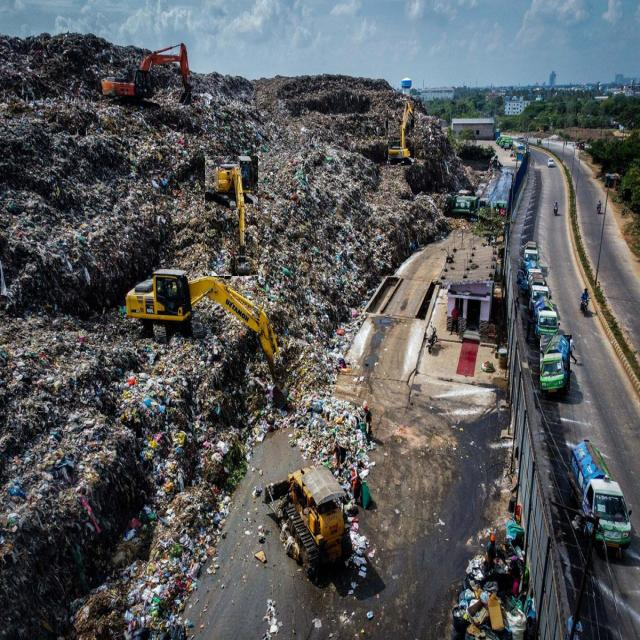truck: (126, 270, 289, 409), (265, 466, 354, 581), (566, 439, 632, 556), (205, 157, 258, 276), (101, 43, 191, 104), (540, 335, 570, 395), (388, 101, 414, 163), (534, 297, 558, 343), (528, 274, 550, 313), (521, 241, 539, 272)
